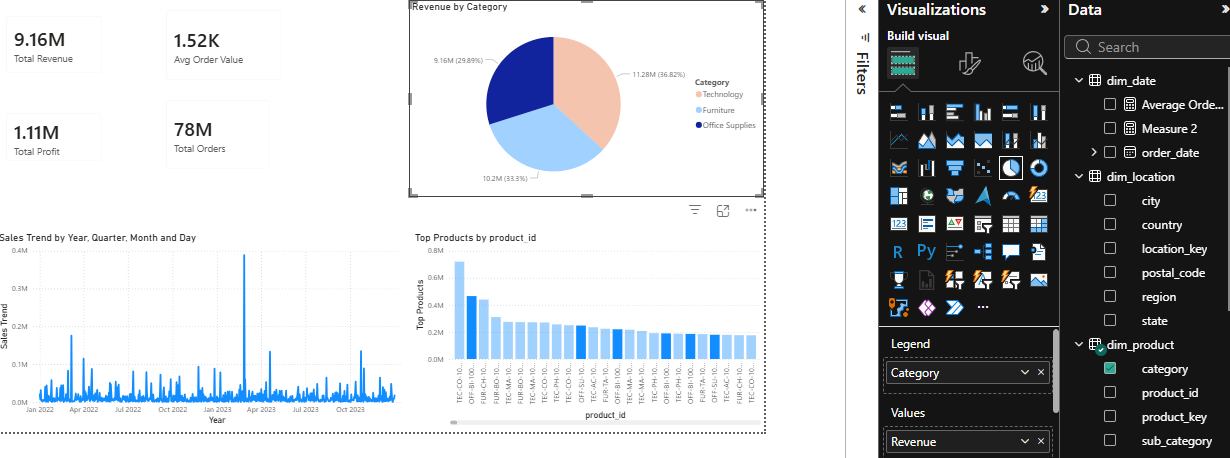

Layout of this report page (visuals, bound fields, positions):
{"tool":"powerbi","page":{"name":"Page 1","canvas":[1280,720],"ordinal":0},"visuals":[{"type":"cardVisual","fields":{"Data":["Sum(fact_sales.revenue)"]},"box":[0,10,193.3,128.3],"z":0},{"type":"cardVisual","fields":{"Data":["Sum(fact_sales.profit)"]},"box":[0,171.7,193.3,113.3],"z":1000},{"type":"lineChart","fields":{"Y":["Sum(fact_sales.revenue)"],"Category":["dim_date.order_date.Variation.Date Hierarchy.Year","dim_date.order_date.Variation.Date Hierarchy.Quarter","dim_date.order_date.Variation.Date Hierarchy.Month","dim_date.order_date.Variation.Date Hierarchy.Day"]},"box":[0,385,693.3,328.3],"z":2000},{"type":"clusteredColumnChart","fields":{"Category":["dim_product.product_id"],"Y":["Sum(fact_sales.revenue)"]},"box":[693.3,385,586.7,328.3],"z":3000},{"type":"pieChart","fields":{"Category":["dim_product.category"],"Y":["Sum(fact_sales.revenue)"]},"box":[688.3,0,591.7,328.3],"z":4000},{"type":"cardVisual","fields":{"Data":["Sum(fact_sales.order_id)"]},"box":[266.7,150,206.7,148.3],"z":5000},{"type":"cardVisual","fields":{"Data":["dim_date.Average Order Value"]},"box":[266.7,0,226.7,150],"z":6000}]}

Visuals, with their boxes on the page's 1280x720 design canvas (x1, y1, x2, y2). These are canvas units, not pixel positions in the 1230x458 screenshot, which may show the page scaled, cropped or inside an application window:
cardVisual - Sum(fact_sales.revenue): <box>0,10,193,138</box>
cardVisual - Sum(fact_sales.profit): <box>0,172,193,285</box>
lineChart - Sum(fact_sales.revenue) x dim_date.order_date.Variation.Date Hierarchy.Year: <box>0,385,693,713</box>
clusteredColumnChart - dim_product.product_id x Sum(fact_sales.revenue): <box>693,385,1280,713</box>
pieChart - dim_product.category x Sum(fact_sales.revenue): <box>688,0,1280,328</box>
cardVisual - Sum(fact_sales.order_id): <box>267,150,473,298</box>
cardVisual - dim_date.Average Order Value: <box>267,0,493,150</box>
